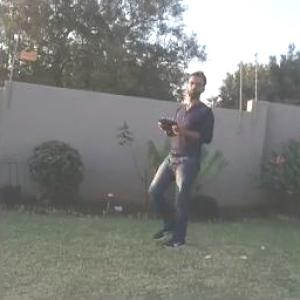follow: (137, 63, 218, 253)
